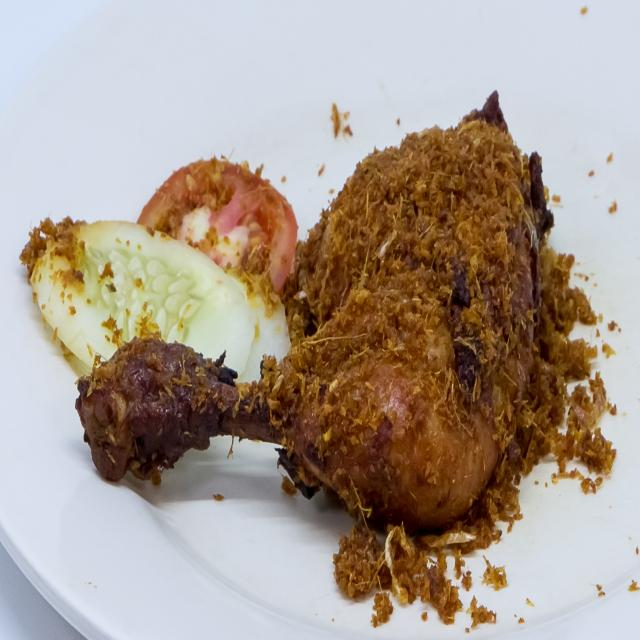Ayam-Goreng-Lengkuas: (53, 66, 561, 564)
